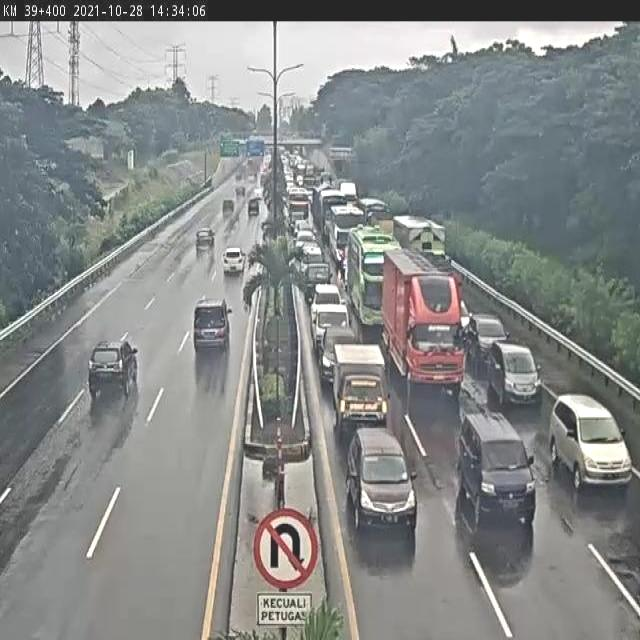Bus: (347, 225, 398, 327), (331, 204, 364, 266)
Car: (458, 412, 536, 522), (553, 393, 634, 496), (348, 429, 413, 528), (80, 328, 140, 398), (488, 341, 542, 404), (191, 295, 234, 351), (469, 310, 510, 365), (311, 285, 347, 325), (321, 329, 356, 368), (315, 305, 349, 336), (303, 262, 331, 298), (190, 227, 218, 257), (220, 246, 247, 272), (219, 196, 236, 219), (247, 196, 262, 220)
Truck: (383, 245, 468, 393), (330, 347, 386, 427), (396, 211, 446, 253), (360, 193, 394, 238)
